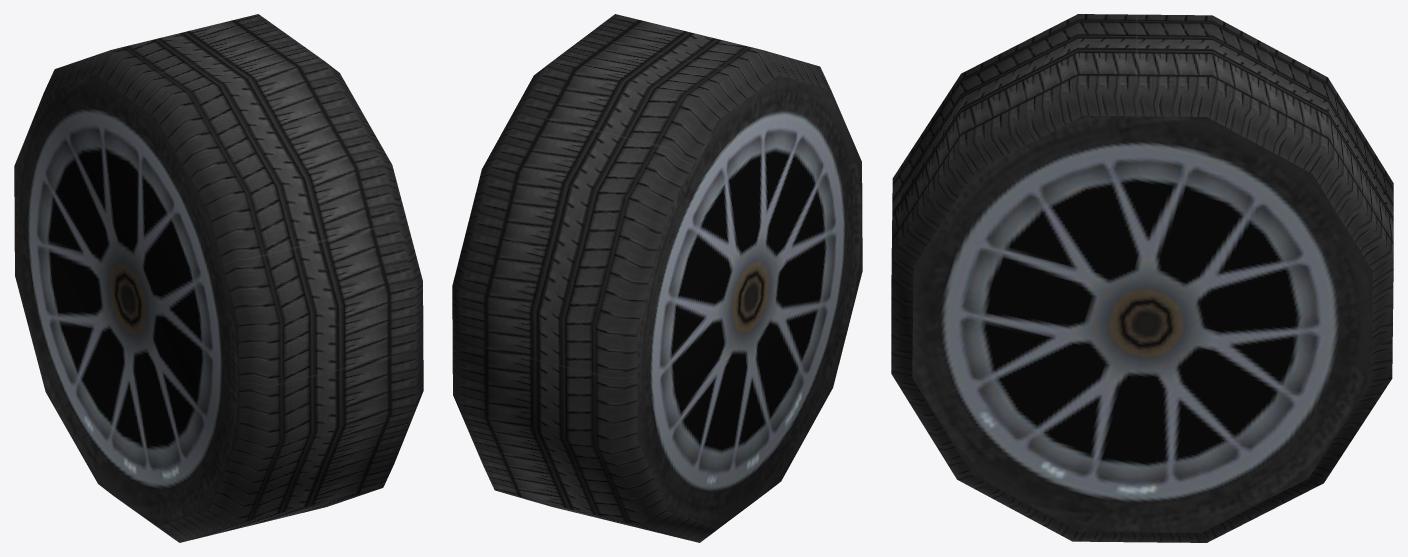
Rendered from WheelSuperCar.FBX.
3 views of the same model, side by side, from view 1: azimuth 30°, elevation 25°; view 2: azimuth 150°, elevation 25°; view 3: azimuth 270°, elevation 25° (orthographic). The views are drawn at different scales.
Visible parts, largest first — view 1: wheelSuperCar001; view 2: wheelSuperCar001; view 3: wheelSuperCar001.
Part boxes in pixels (x1,y1,x2,y2): wheelSuperCar001: [14, 14, 423, 542]; wheelSuperCar001: [452, 14, 862, 542]; wheelSuperCar001: [891, 14, 1393, 542].
Bounding box in the file's own units: 34.45 × 79.67 × 79.67.
